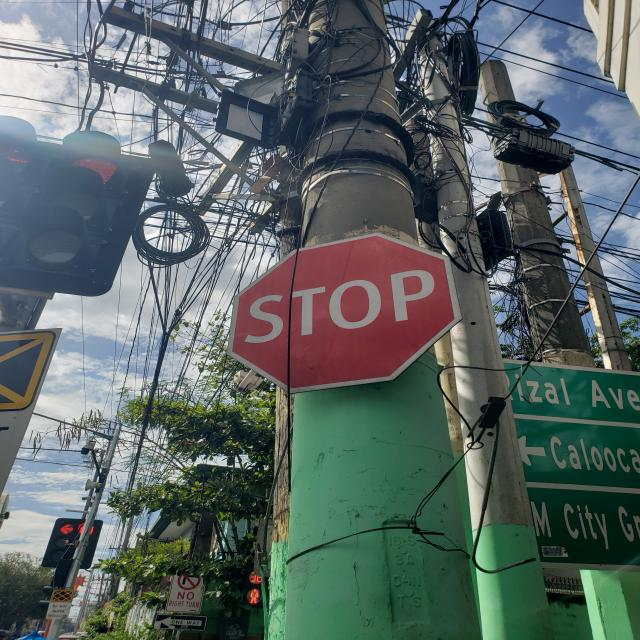stop-sign: (226, 232, 463, 394)
